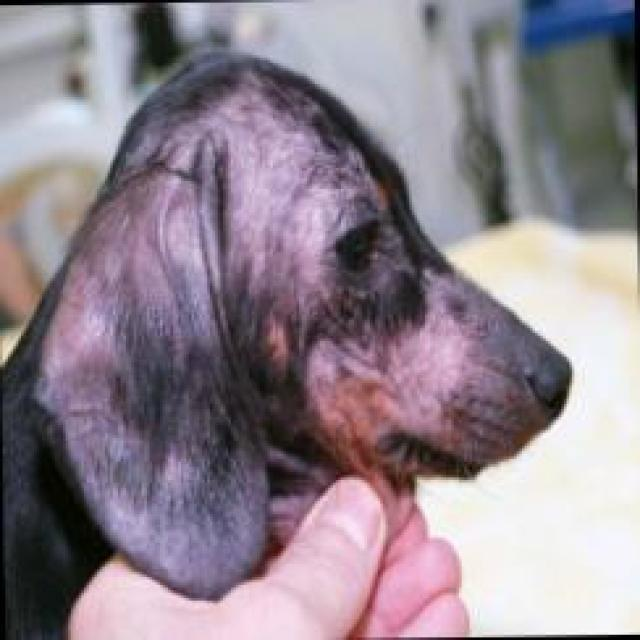allergic dermatitis: (37, 176, 263, 580), (222, 115, 322, 270), (378, 272, 467, 432), (145, 86, 282, 188), (297, 332, 395, 428), (303, 146, 377, 222)
